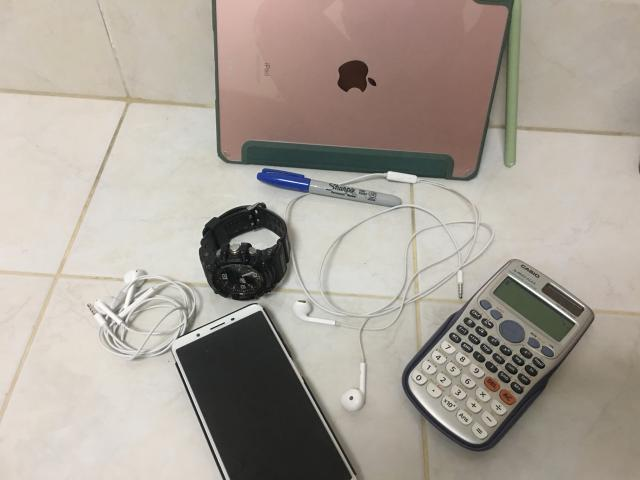Mobile phone: (171, 304, 355, 479)
Pen: (256, 169, 401, 206)
Watch: (199, 202, 290, 300)
wire: (291, 179, 495, 411), (88, 270, 196, 360)
